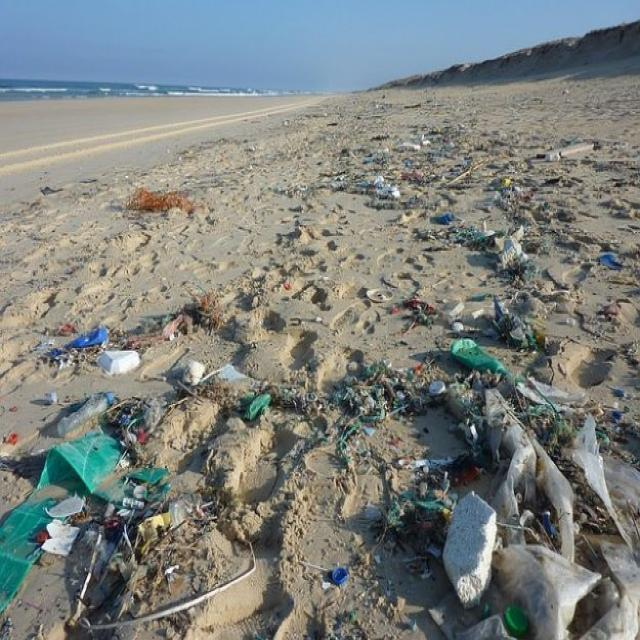garbage: (10, 305, 308, 640), (347, 304, 640, 640)
